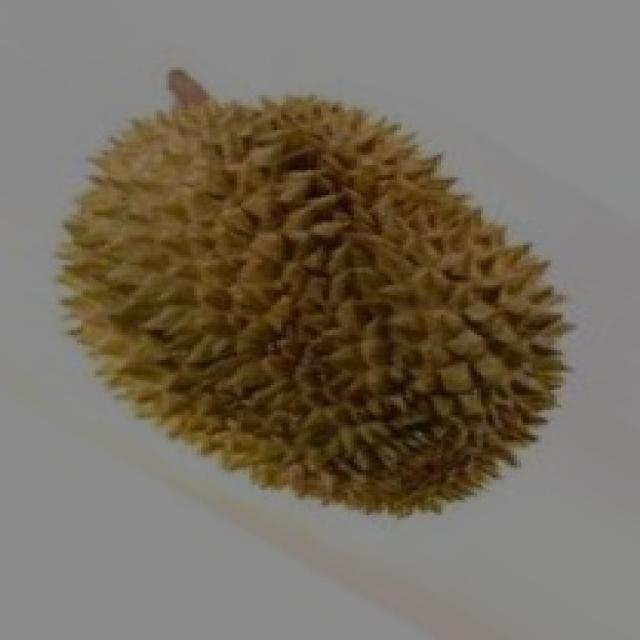fruit: (9, 168, 378, 558), (268, 180, 612, 562)
